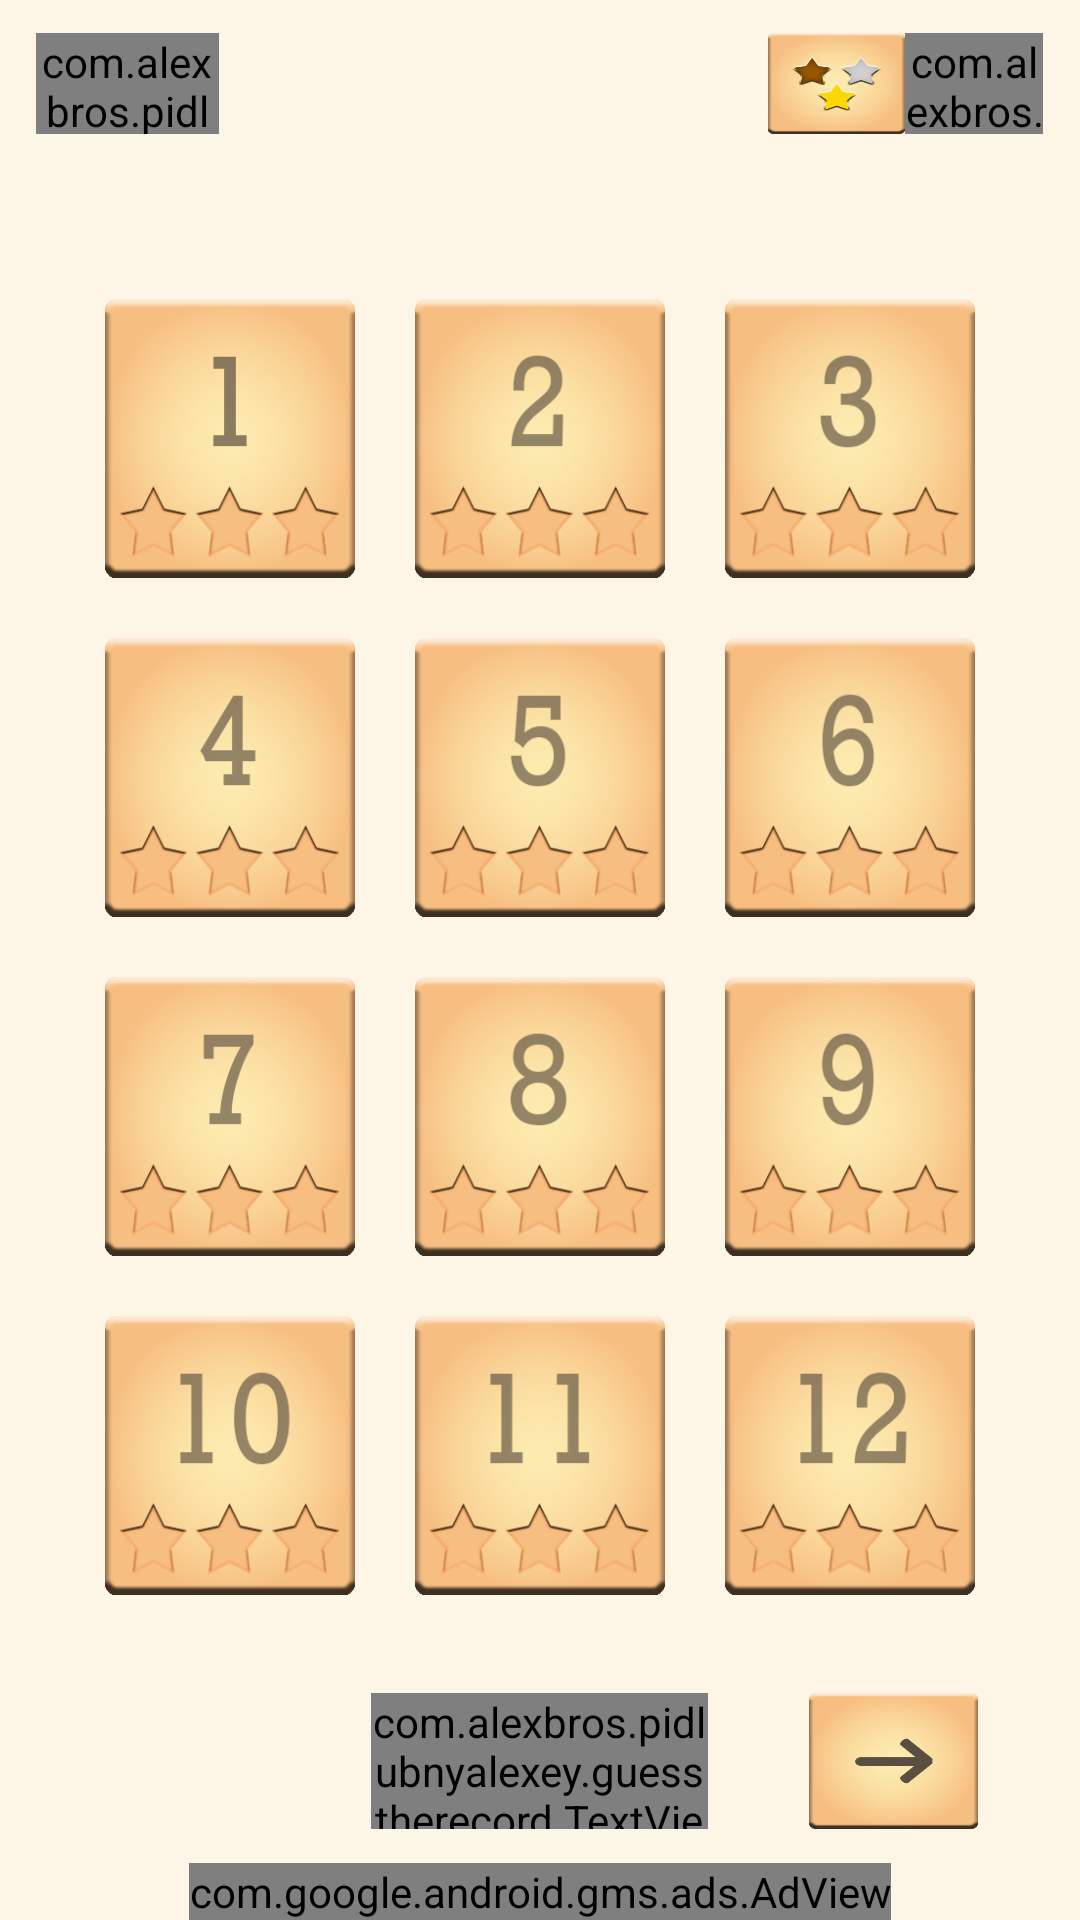

Screen size 1080*1920. Icon name, then its center in pixels as [x,y]:
next: [893,1761]
stars: [836,84]
